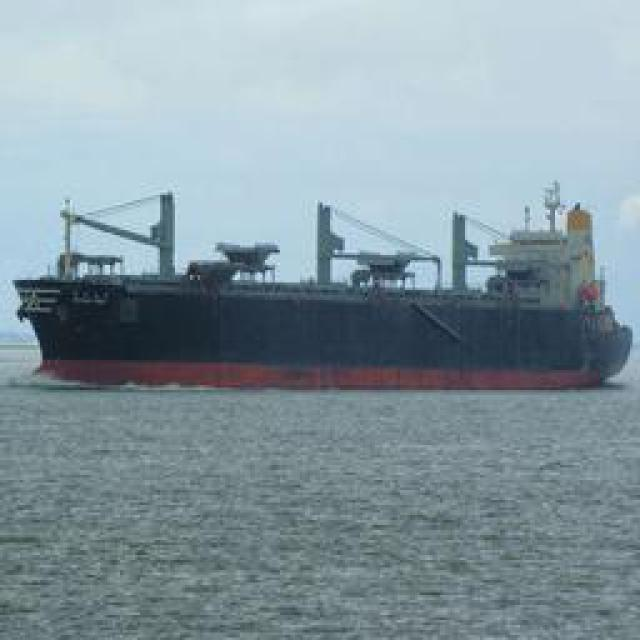Ship: (12, 182, 630, 382)
